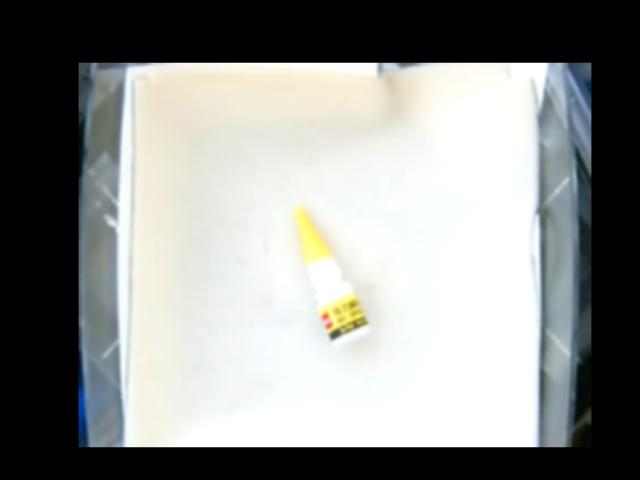Bottle: (290, 205, 372, 347)
